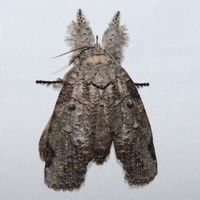insect: (37, 9, 156, 189)
